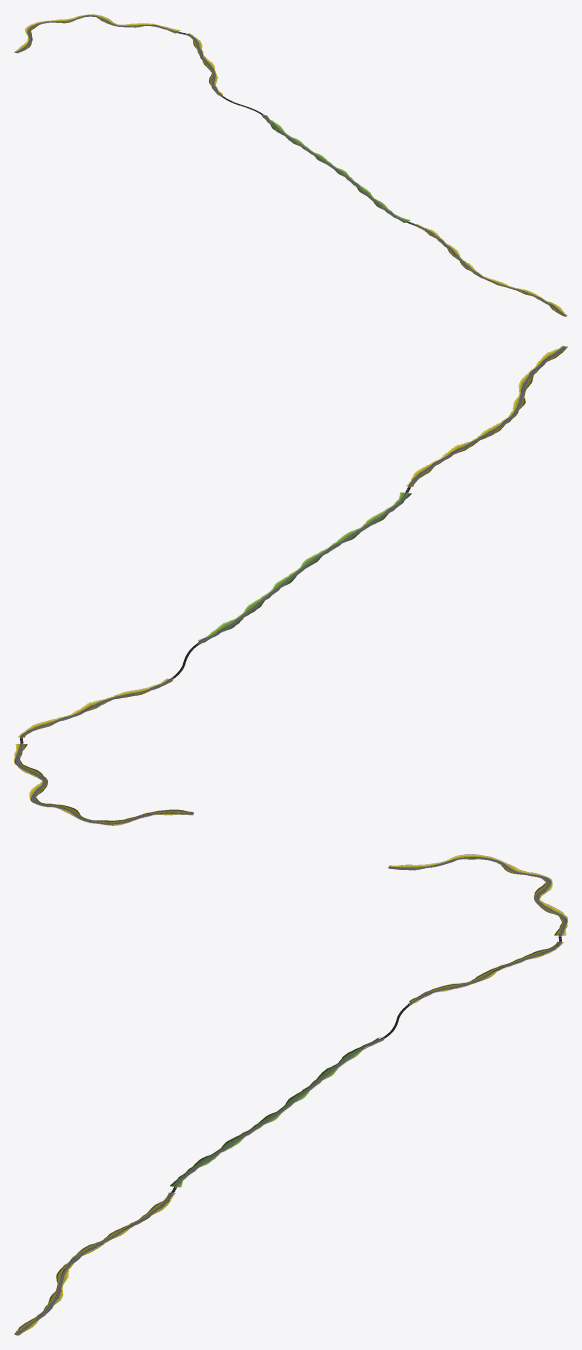
Rendered from course-cy1.glb.
The picture shows the model from 3 angles, top to bottom: view 1: azimuth 30°, elevation 25°; view 2: azimuth 150°, elevation 25°; view 3: azimuth 330°, elevation 25°; orthographic projection. The views are drawn at different scales.
Parts seen in each view (by area): view 1: course-cy1; view 2: course-cy1; view 3: course-cy1.
Part boxes in pixels (x1=…): course-cy1: x1=14, y1=14, x2=567, y2=316; course-cy1: x1=14, y1=345, x2=567, y2=825; course-cy1: x1=14, y1=854, x2=567, y2=1335.
Bounding box in the file's own units: 1942 × 35.1 × 9656.
Materials: 56 (56 with a texture image).
